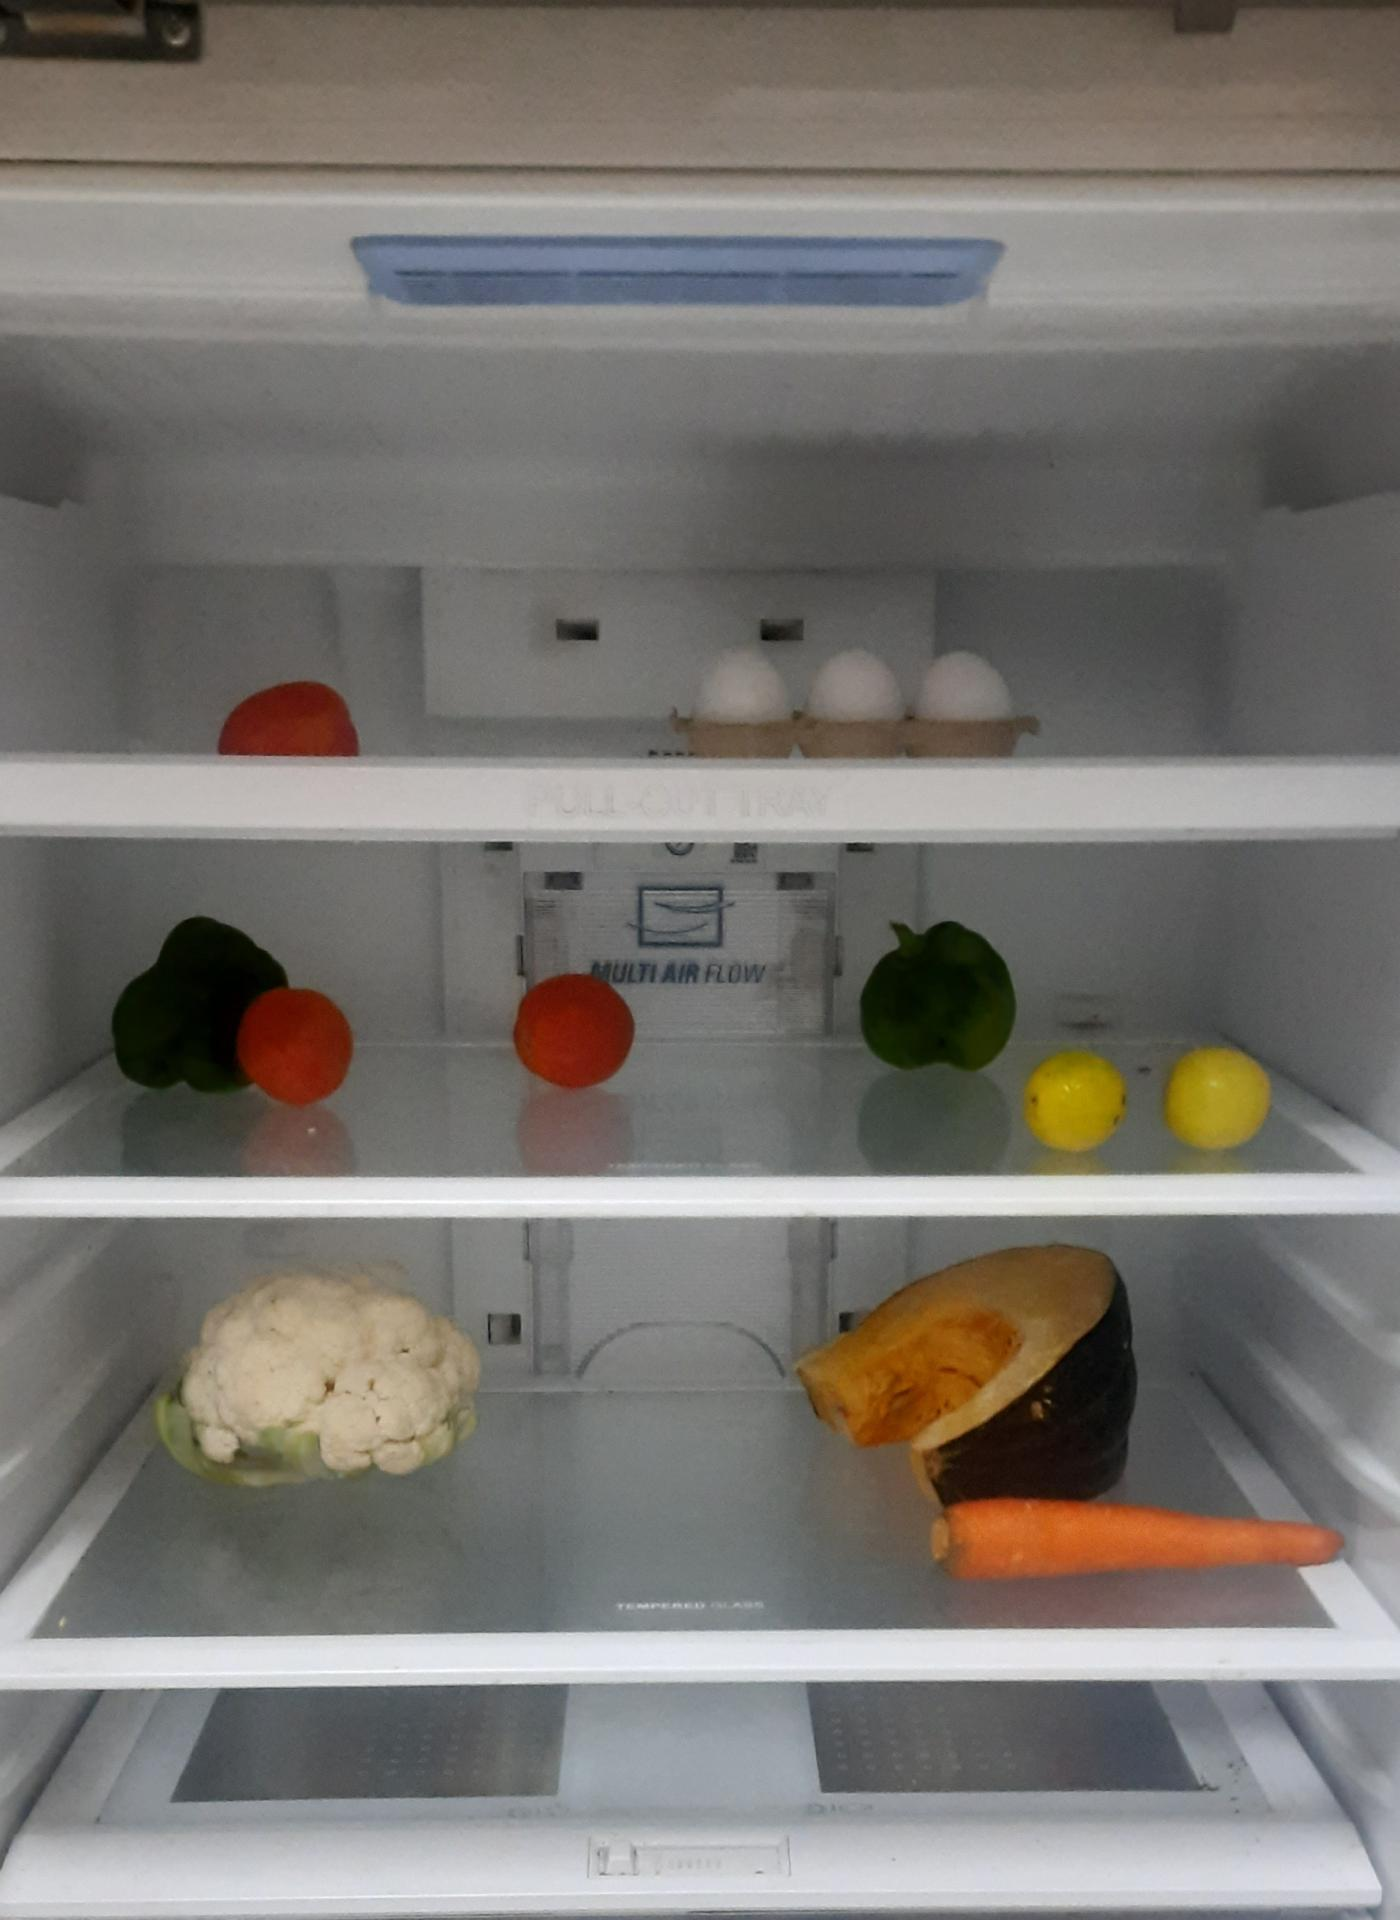capsicum: (106, 903, 292, 1109), (860, 927, 1020, 1078)
carrots: (933, 1494, 1337, 1577)
cauliflower: (163, 1272, 492, 1491)
egg: (701, 642, 1027, 742)
lemon: (1163, 1042, 1275, 1146), (1020, 1043, 1130, 1148)
pumpkin: (793, 1234, 1144, 1494)
tomato: (511, 972, 640, 1093), (237, 987, 358, 1109), (218, 680, 364, 762)
